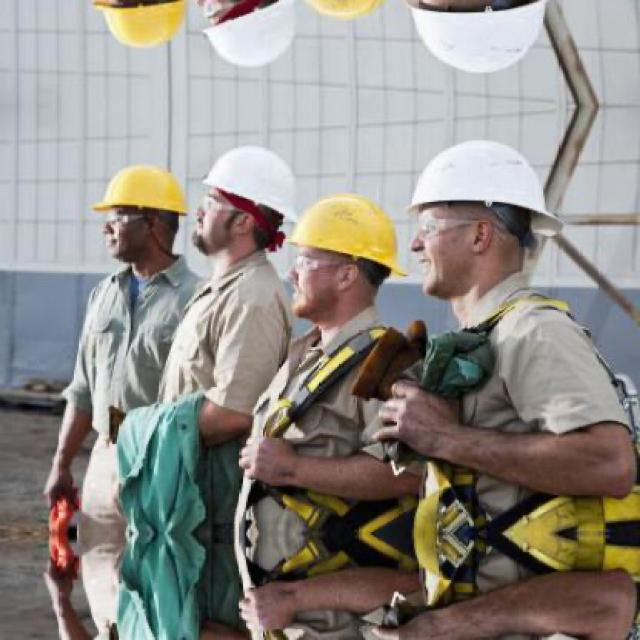helmet: (405, 125, 577, 294), (277, 184, 403, 319), (403, 0, 577, 89), (192, 132, 302, 260), (86, 151, 199, 272), (192, 0, 303, 82), (86, 0, 200, 63), (275, 0, 403, 31)
